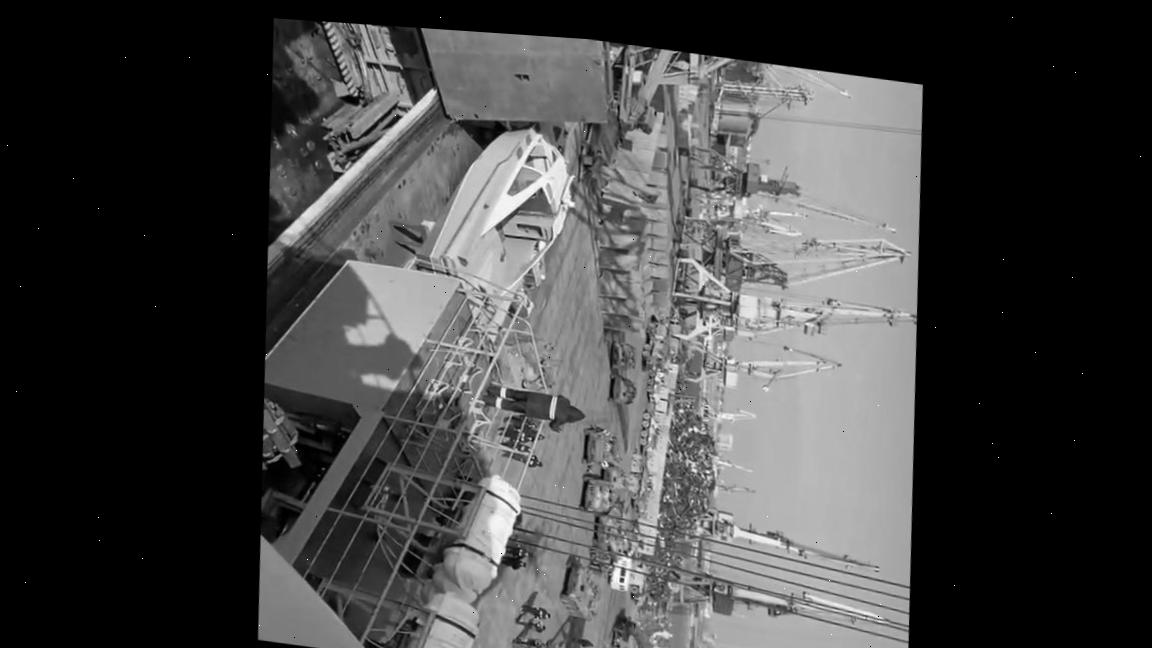person: (480, 382, 589, 437), (495, 413, 540, 432), (503, 449, 545, 469), (497, 426, 536, 444), (519, 602, 552, 621), (499, 439, 536, 454), (514, 617, 547, 633), (513, 634, 550, 648), (504, 542, 531, 561), (502, 554, 527, 572), (571, 635, 596, 648), (510, 640, 547, 648), (565, 645, 596, 648), (466, 647, 491, 648)
tank: (556, 557, 605, 623), (579, 422, 623, 469), (590, 509, 628, 560), (629, 462, 656, 520), (579, 475, 614, 517), (636, 407, 663, 458), (606, 371, 640, 407), (609, 339, 638, 373), (641, 372, 668, 407), (602, 463, 631, 492)
truck: (641, 335, 669, 375)
